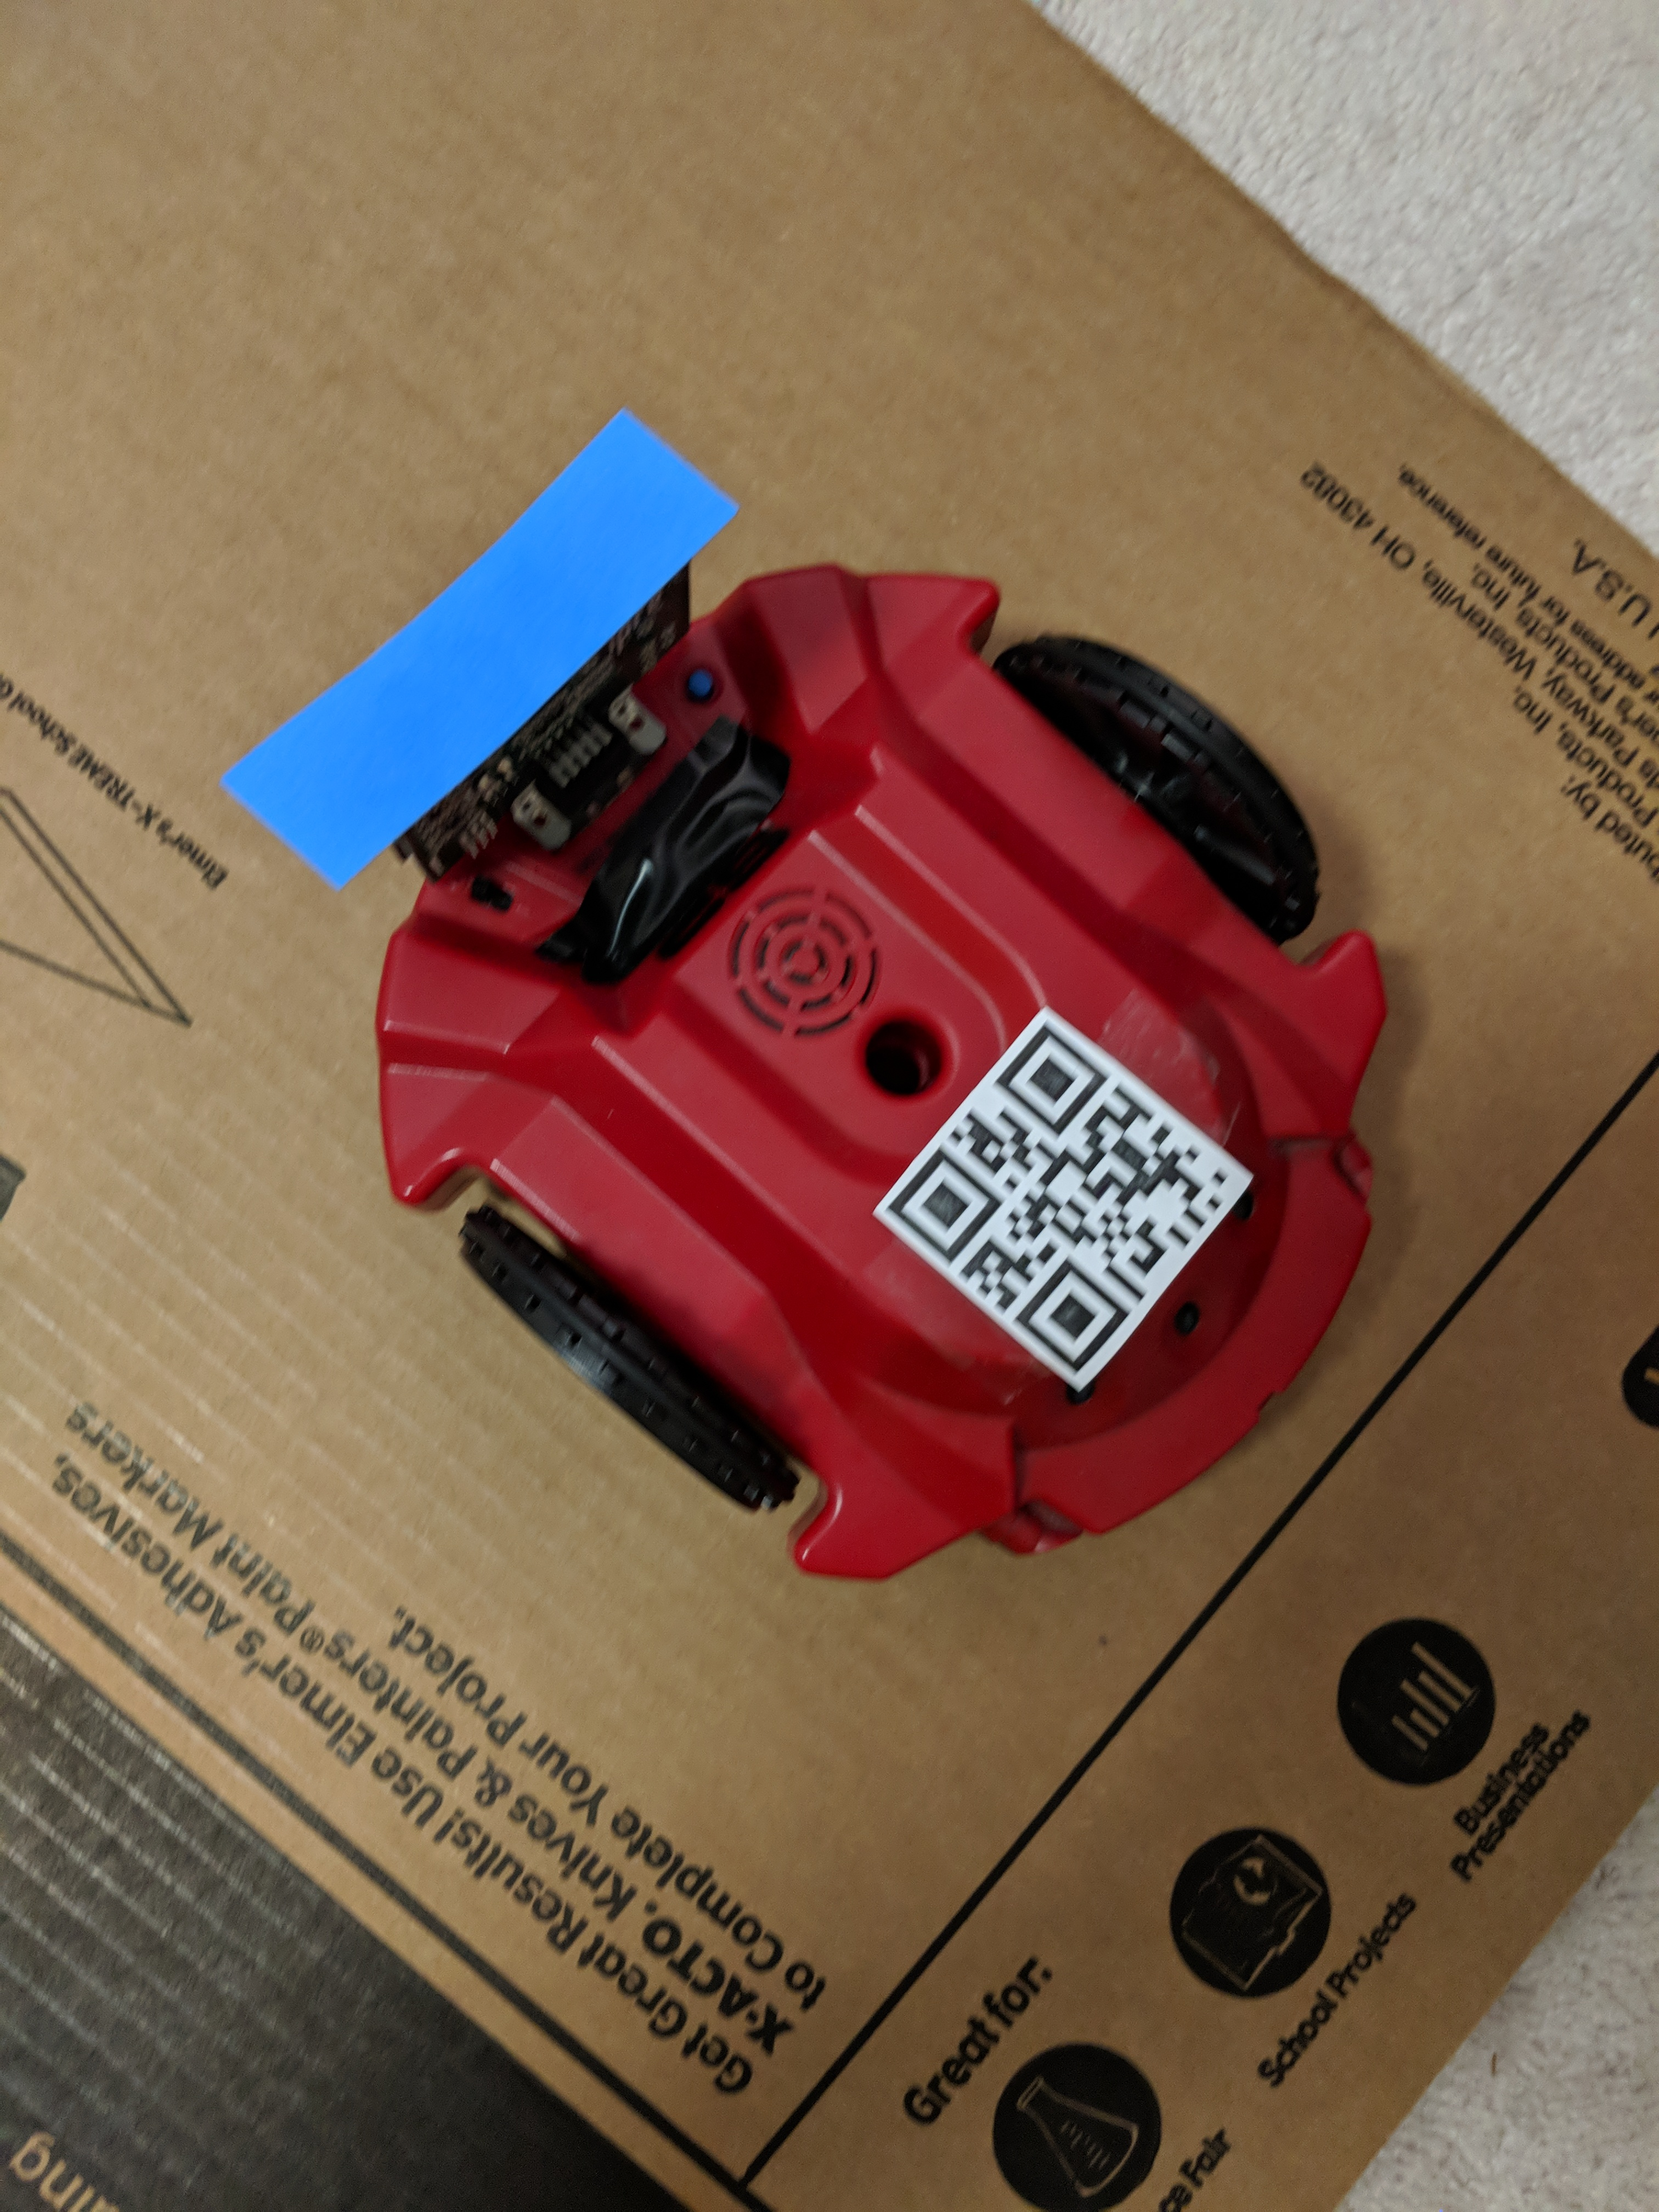chassis: (220, 394, 1413, 1613)
qr: (843, 1005, 1241, 1399)
